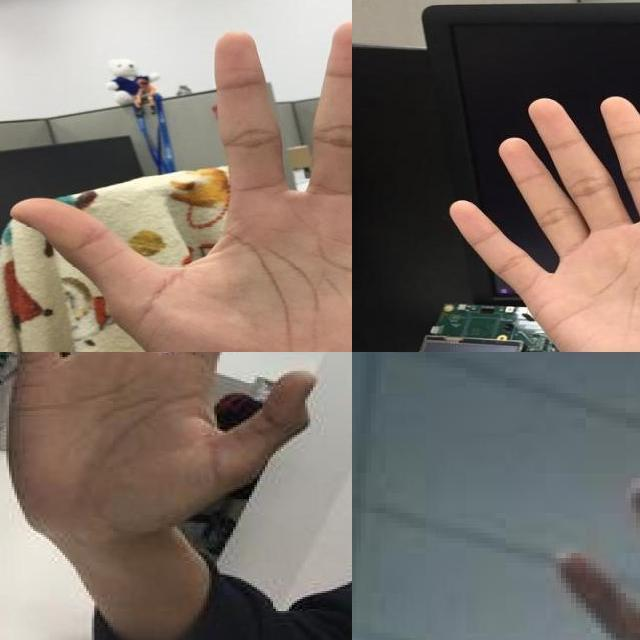no-gloves: (9, 23, 352, 352), (6, 352, 318, 537), (448, 91, 640, 352)
